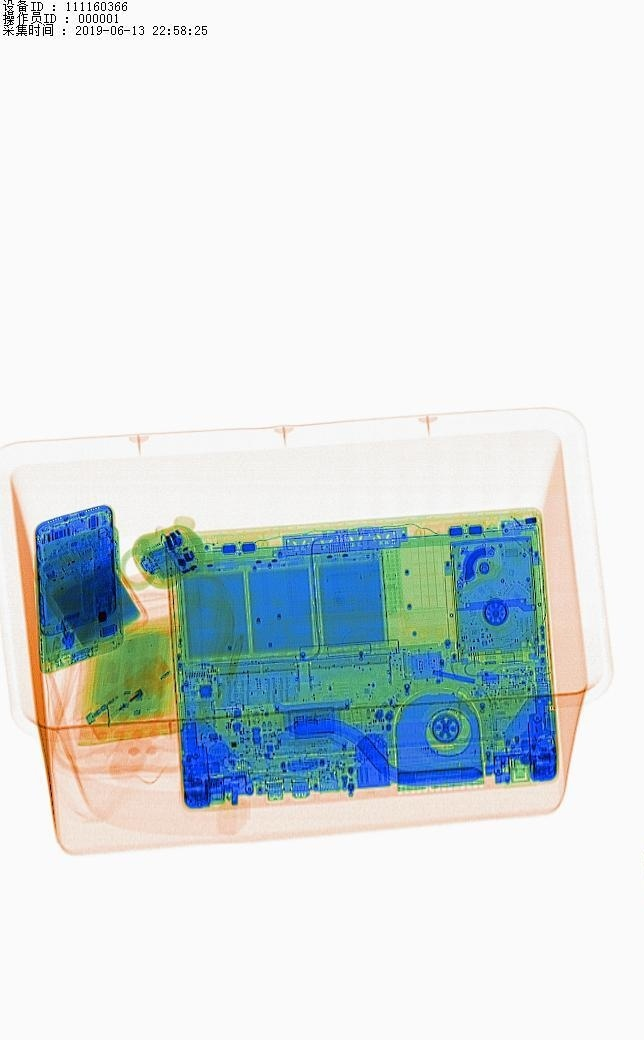NonmetallicFire: (76, 668, 170, 734)
